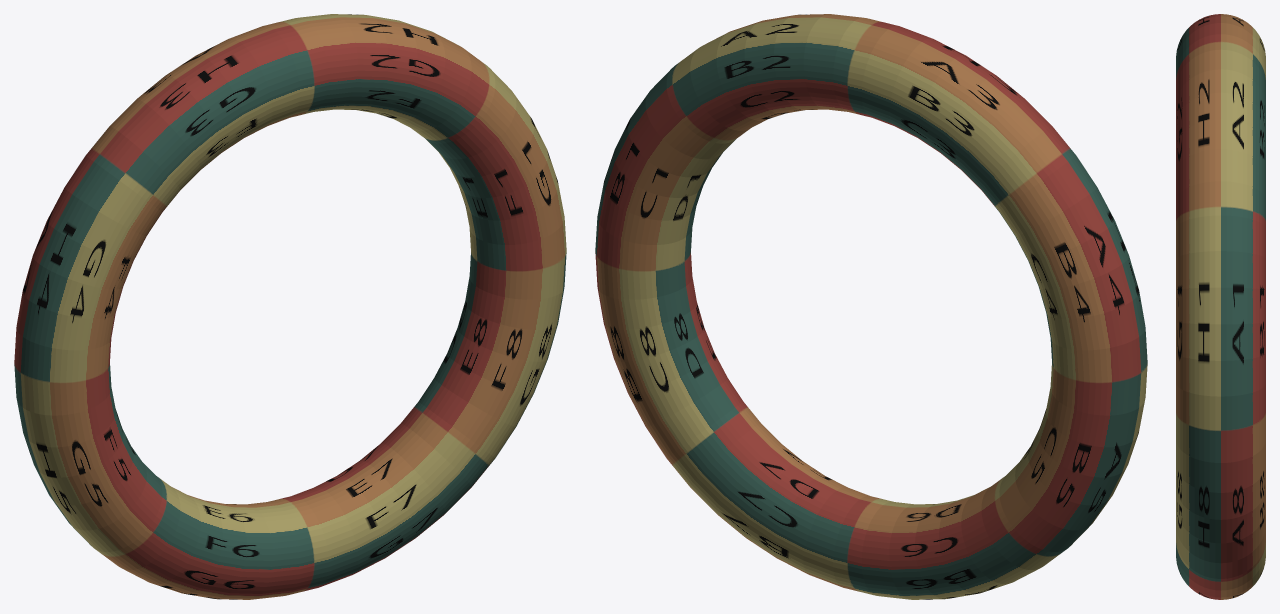
Rendered from texture_torus_R28_r12.glb.
The picture shows the model from 3 angles, left to right: view 1: azimuth 30°, elevation 25°; view 2: azimuth 150°, elevation 25°; view 3: azimuth 270°, elevation 25°; orthographic projection. The views are drawn at different scales.
Parts seen in each view (by area): view 1: world; view 2: world; view 3: world.
Boxes of the visible parts, x1=… form: world: x1=14, y1=14, x2=566, y2=599; world: x1=595, y1=14, x2=1147, y2=599; world: x1=1176, y1=14, x2=1265, y2=599.
Size of the model in its own units: 33.87 by 33.8 by 5.19.
Materials: 1 (1 with a texture image).
